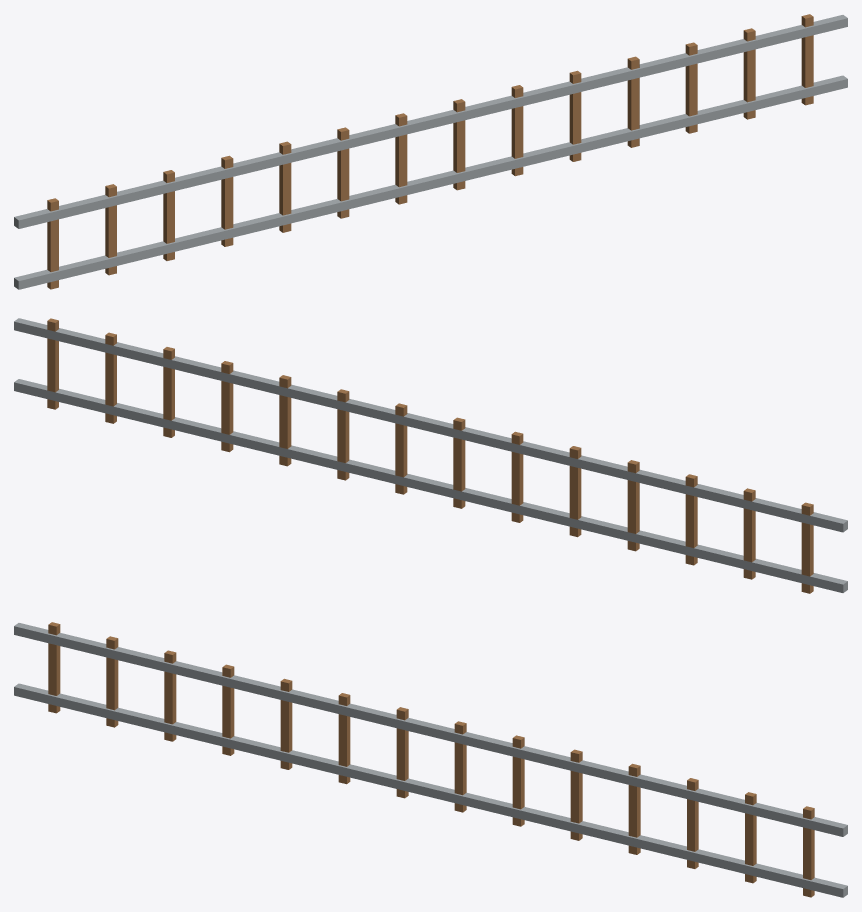
File: tinker.obj
The picture shows the model from 3 angles, top to bottom: view 1: azimuth 30°, elevation 25°; view 2: azimuth 150°, elevation 25°; view 3: azimuth 330°, elevation 25°; orthographic projection.
Visible parts, largest first — view 1: group_0_10988977, group_0_11107152; view 2: group_0_10988977, group_0_11107152; view 3: group_0_10988977, group_0_11107152.
Boxes of the visible parts, x1=… form: group_0_10988977: x1=14, y1=15, x2=847, y2=289; group_0_11107152: x1=47, y1=14, x2=813, y2=289; group_0_10988977: x1=14, y1=318, x2=847, y2=592; group_0_11107152: x1=47, y1=318, x2=813, y2=593; group_0_10988977: x1=14, y1=623, x2=847, y2=897; group_0_11107152: x1=48, y1=622, x2=814, y2=897.
Bounding box in the file's own units: 100 × 10 × 1.
